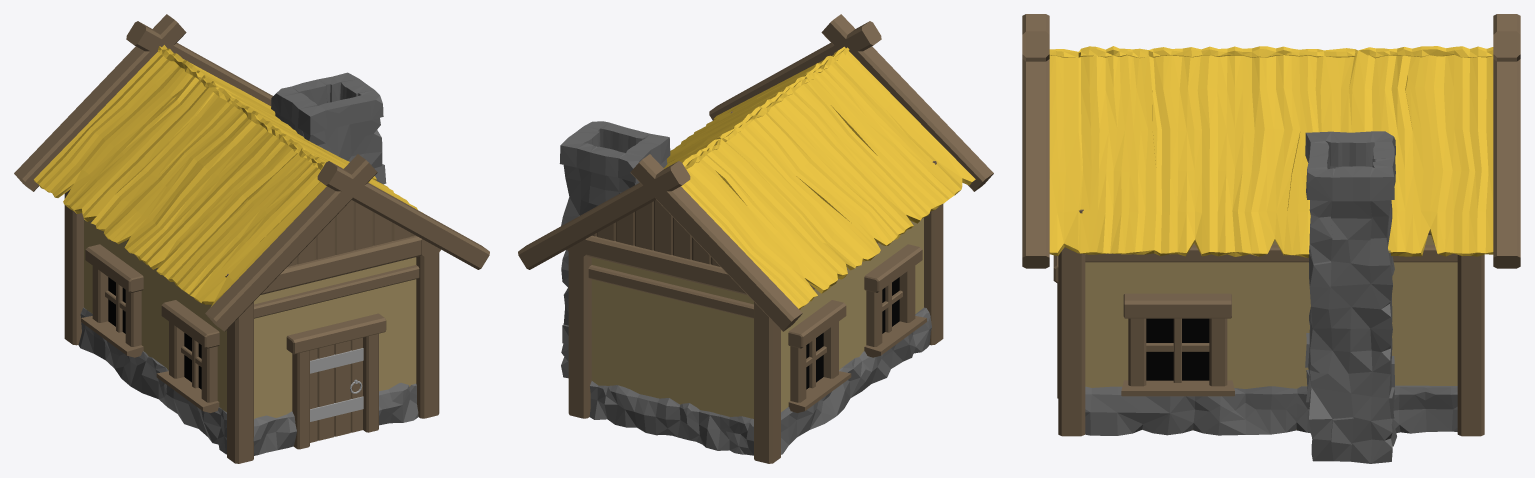
File: House 3.fbx
3 renders of one model, left to right at view 1: azimuth 30°, elevation 25°; view 2: azimuth 150°, elevation 25°; view 3: azimuth 270°, elevation 25°, orthographic. The views are drawn at different scales.
Visible parts, largest first — view 1: House 3; view 2: House 3; view 3: House 3.
Part boxes in pixels (x1,y1,x2,y2): House 3: [14, 14, 489, 463]; House 3: [518, 14, 993, 463]; House 3: [1022, 14, 1520, 463].
Size of the model in its own units: 5.51 by 5.24 by 6.69.
